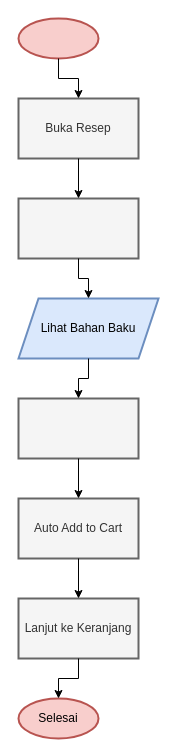
This 176x756 diagram has some shape labels left out. The shapes that lost their labels are listed below. From the top down, each one's centre as x and y in pixels, then its label:
At (58,38): "Mulai".
At (78,228): "Pilih Menu Masakan".
At (78,428): "Klik Beli Bahan".
